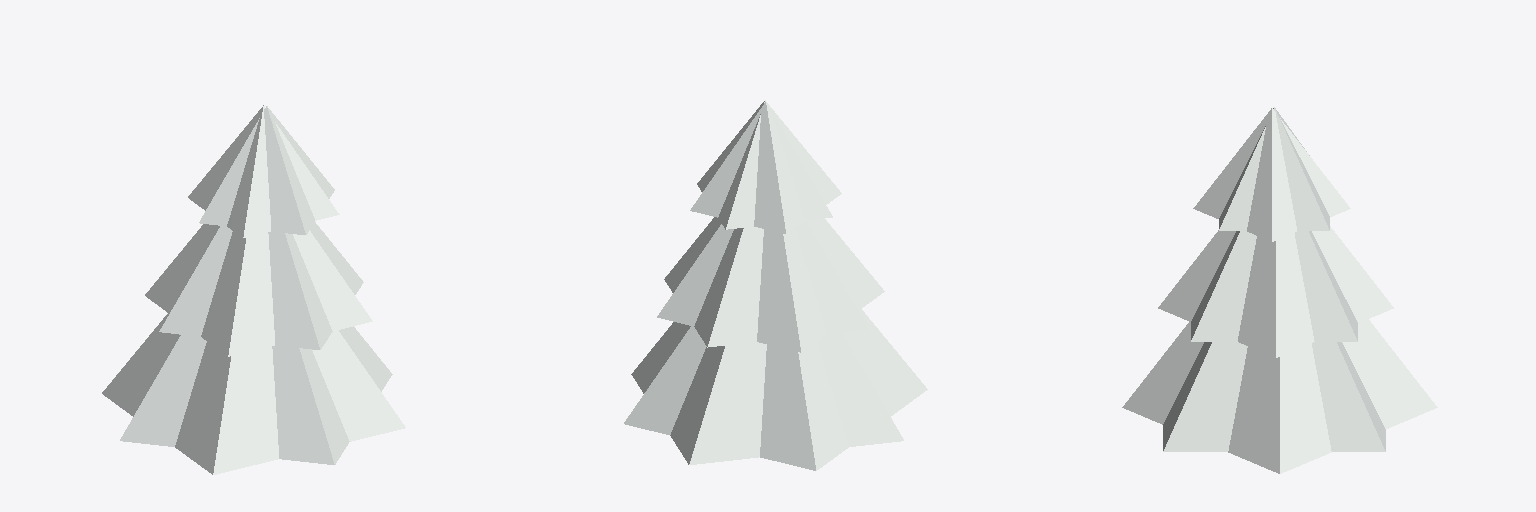
3 renders of one model, left to right at view 1: azimuth 30°, elevation 25°; view 2: azimuth 150°, elevation 25°; view 3: azimuth 270°, elevation 25°, orthographic.
Parts seen in each view (by area): view 1: arbol; view 2: arbol; view 3: arbol.
Boxes of the visible parts, x1=… form: arbol: x1=102, y1=105, x2=405, y2=474; arbol: x1=624, y1=100, x2=927, y2=470; arbol: x1=1122, y1=107, x2=1437, y2=473.
Size of the model in its own units: 3.35 by 3.55 by 3.35.
Materials: 1 (1 with a texture image).